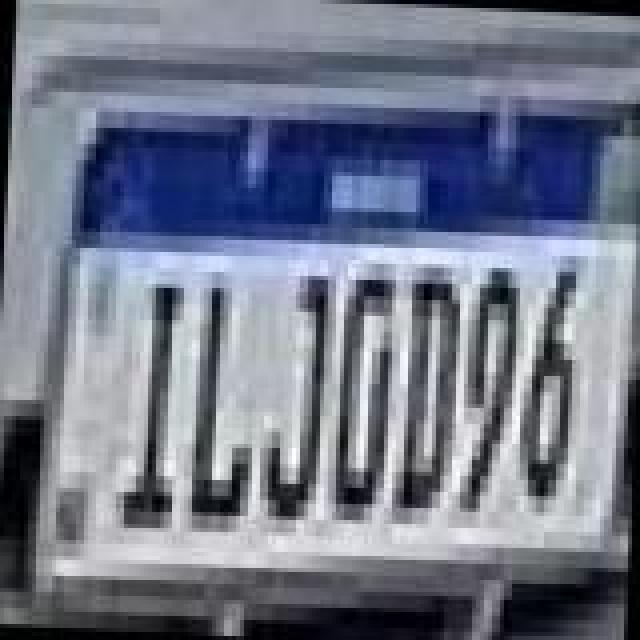6: (514, 256, 590, 512)
9: (450, 262, 526, 522)
D: (326, 268, 402, 524), (390, 264, 466, 520)
I: (114, 276, 190, 540)
J: (258, 270, 334, 530)
L: (186, 272, 262, 528)
